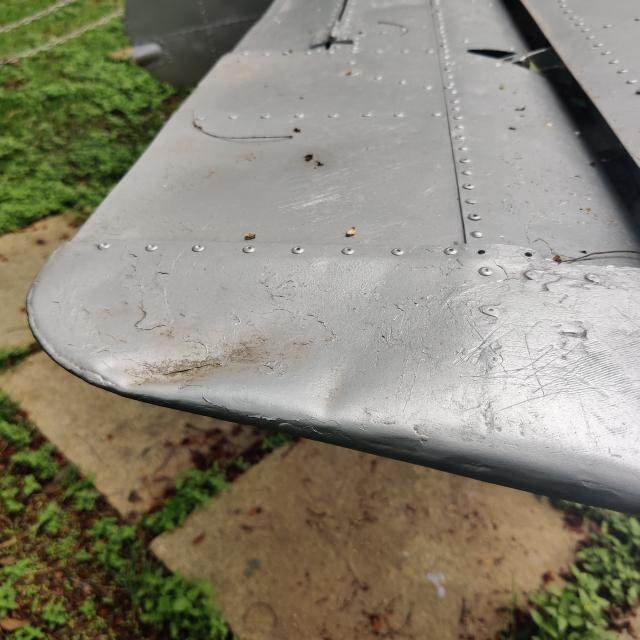dent: (279, 335, 396, 457)
scratch: (516, 294, 640, 432)
